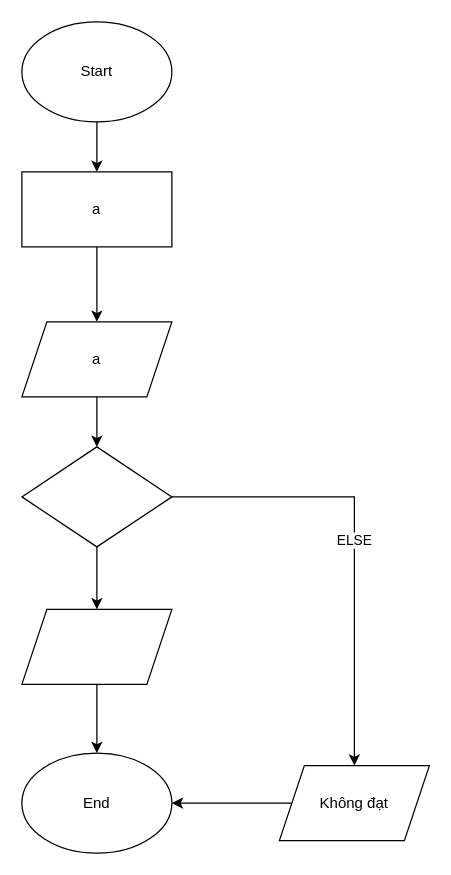
This 451x875 diagram has some shape labels left out. The centre of each missing label's shape, as x and y in pixels:
a > 5: [96,496]
Đạt: [96,646]
